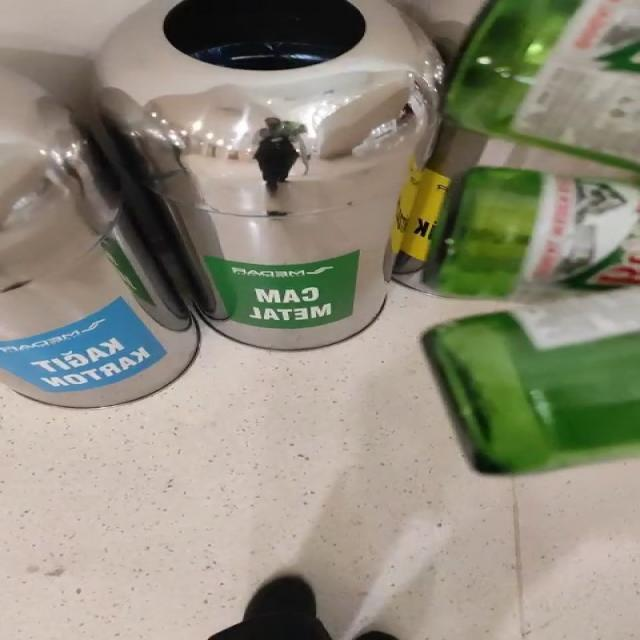Bin: (96, 0, 443, 350)
Glass: (425, 290, 637, 474), (445, 0, 639, 170), (413, 165, 640, 299)
